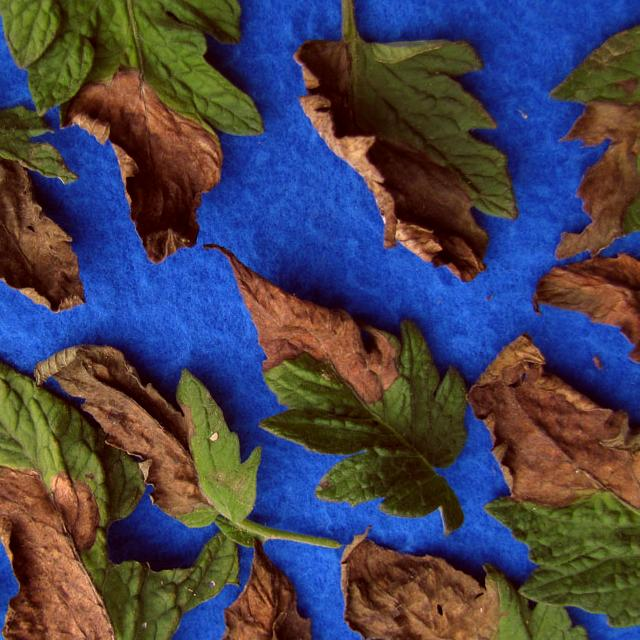Tomato leaf late blight: (281, 9, 522, 290), (0, 0, 259, 256), (230, 280, 481, 523), (31, 336, 303, 540), (0, 328, 170, 640), (338, 542, 640, 640), (0, 92, 118, 317), (554, 0, 640, 262), (527, 242, 640, 372)
